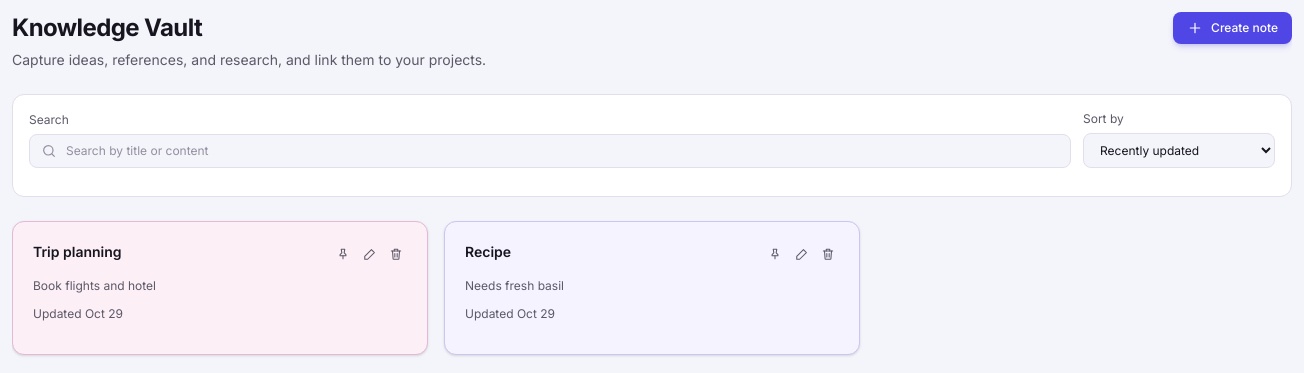
Test case: KnowledgeVaultPage › searches across both titles and content
The image size is (1304, 373).
Expected: the heading "Trip planning" is shown, 33,243 -> 122,260
Type "basil" into the field named "Search notes" at (550, 151), box 29,134 -> 1071,168
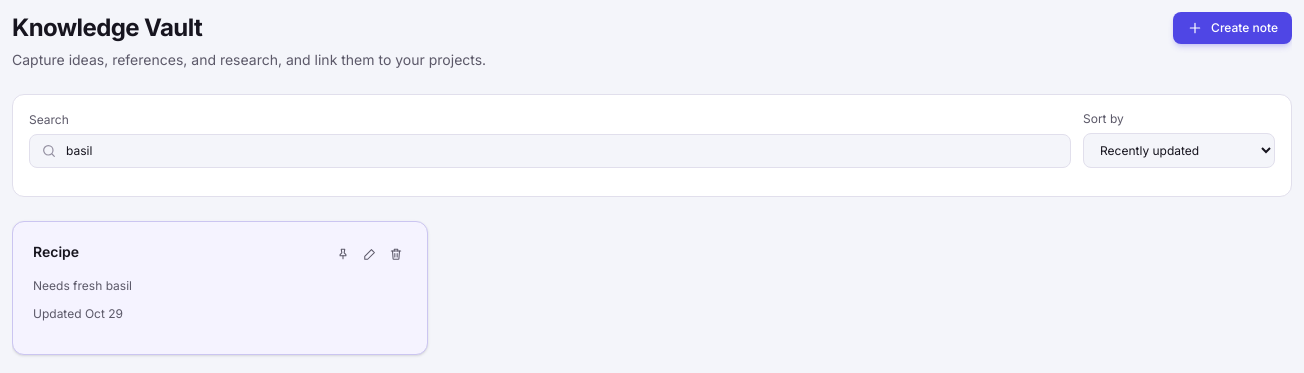
Expected: the heading "Recipe" is shown, 33,243 -> 79,260
Now the link "Trip planning" is gone
Replace the text in the field named "Search notes" with "flights" at (550, 151), box 29,134 -> 1071,168
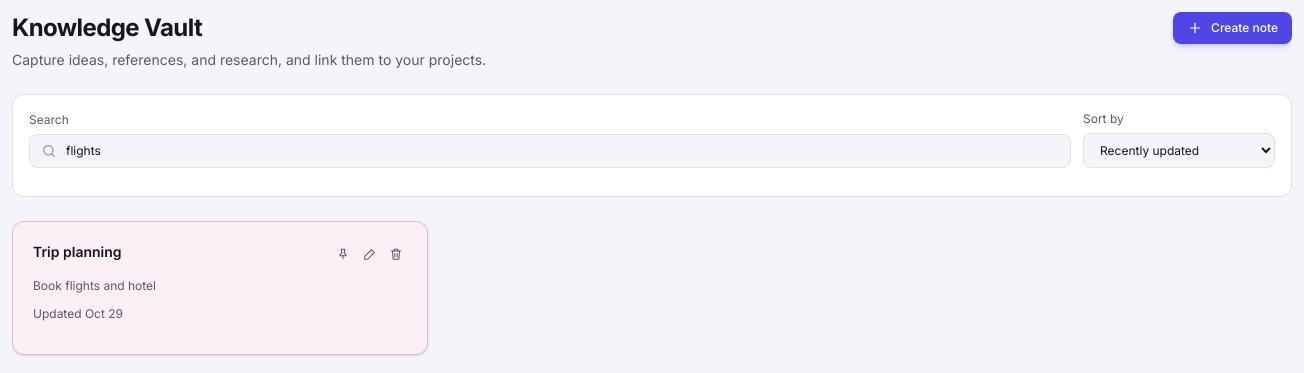
Now the heading "Trip planning" is shown, box 33,243 -> 122,260
Now the link "Recipe" is gone
